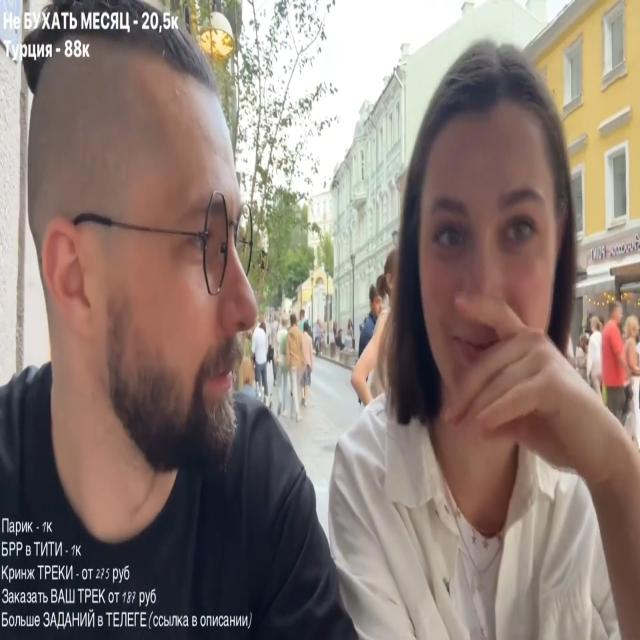Person: (0, 10, 388, 637), (319, 79, 640, 639), (354, 279, 392, 408), (600, 308, 631, 426), (282, 316, 314, 417), (623, 310, 640, 438), (250, 320, 271, 400)
